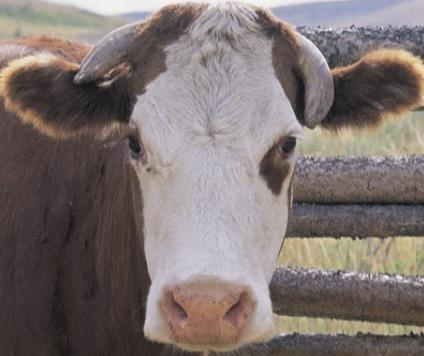muzzles: (137, 271, 279, 353)
